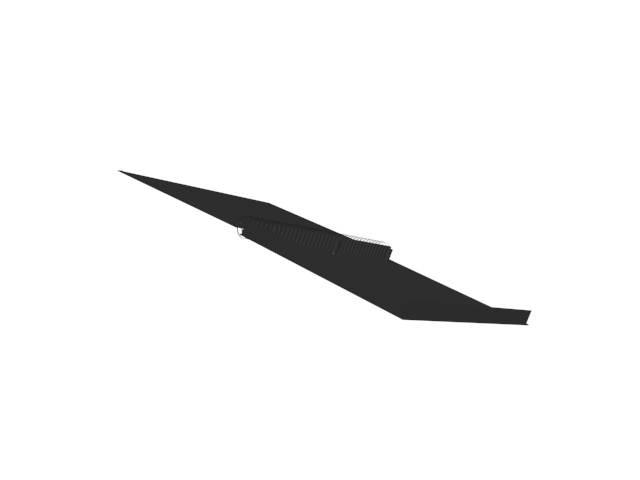paper_notebook: (113, 169, 536, 328)
